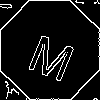M: (25, 25, 81, 83)
